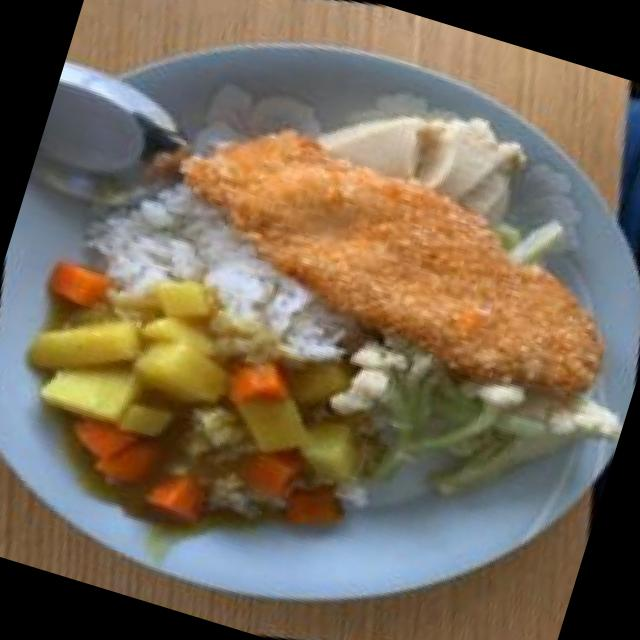curry: (0, 199, 444, 610)
fried_chicken: (126, 47, 640, 478)
rice: (62, 136, 396, 410)
